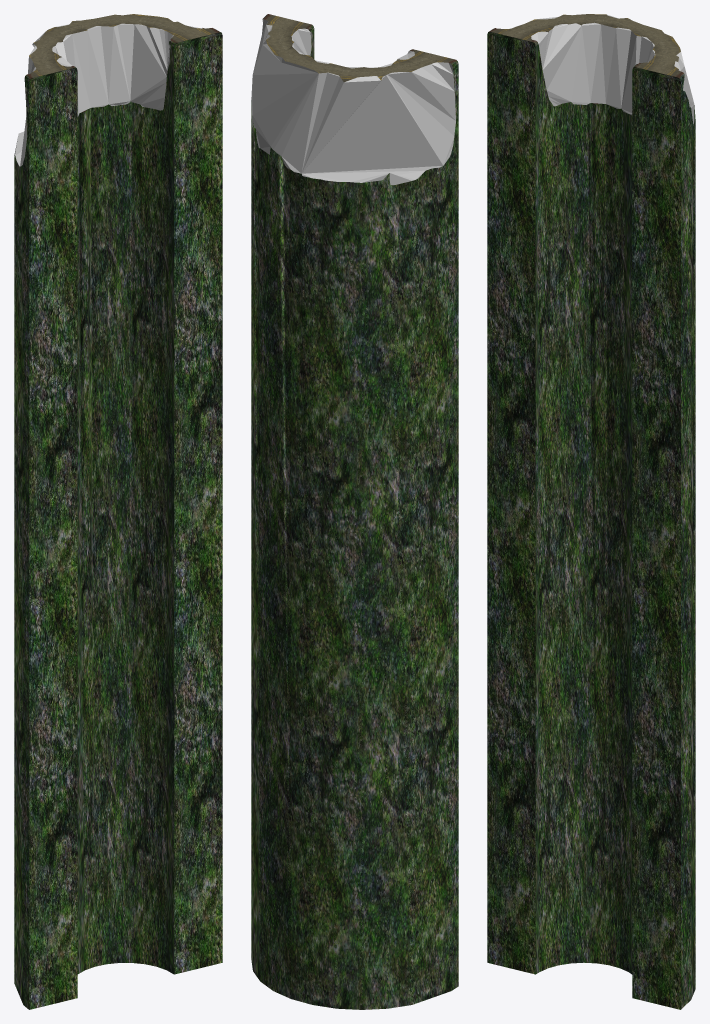
The model's file is Broken bend.fbx.
The picture shows the model from 3 angles, left to right: view 1: azimuth 30°, elevation 25°; view 2: azimuth 150°, elevation 25°; view 3: azimuth 330°, elevation 25°; orthographic projection.
Parts seen in each view (by area): view 1: broken bend; view 2: broken bend; view 3: broken bend.
Boxes of the visible parts, x1,y1,x2,y2 form: broken bend: (14,14,222,1009); broken bend: (251,14,458,1009); broken bend: (487,14,695,1009).
Bounding box in the file's own units: 1638 × 7538 × 818.
